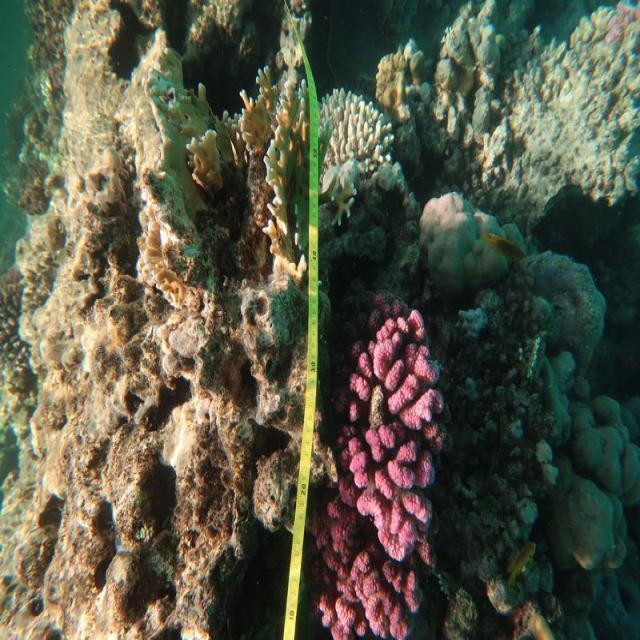Healthy Coral: (312, 291, 437, 640)
